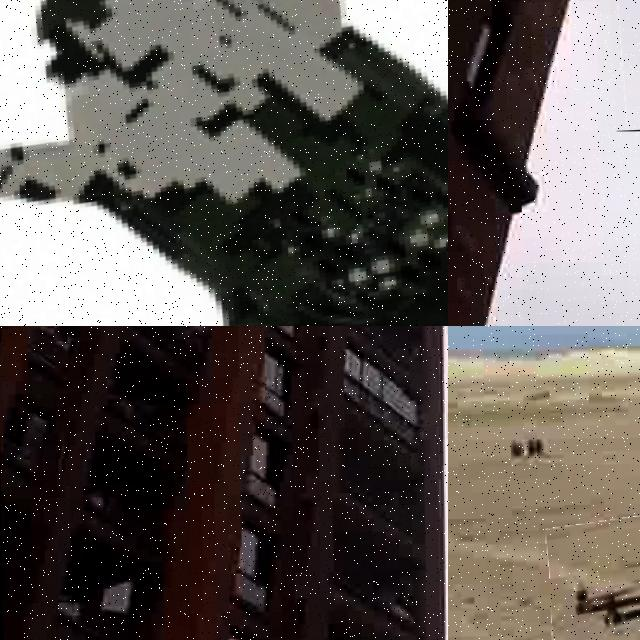0: (548, 511, 640, 640)
drone: (0, 0, 448, 326)
